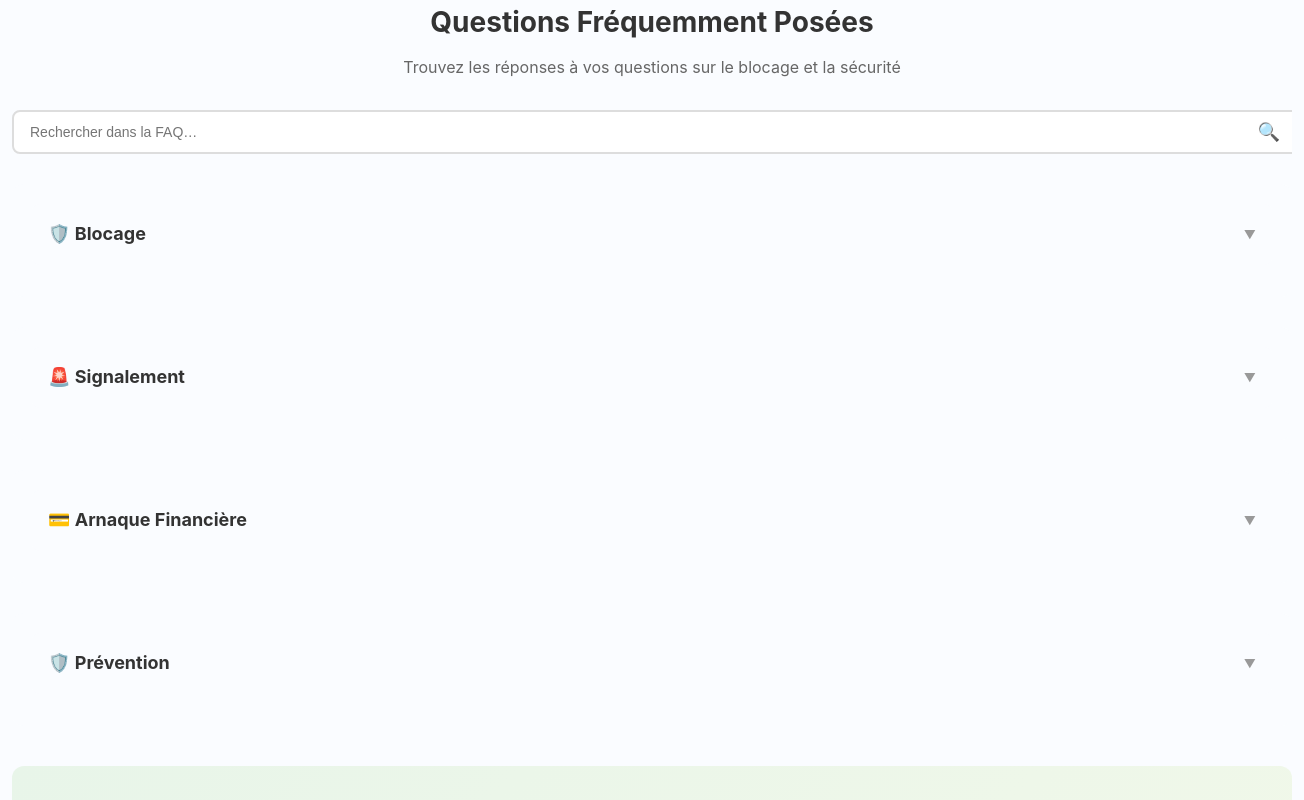
Test: FAQSection Component - Expanded Coverage › Search Filtering › should show no results message with suggestions
Type "xyz123abc" into the field with class "search-input" at [652, 132], box [12,110,1292,154]
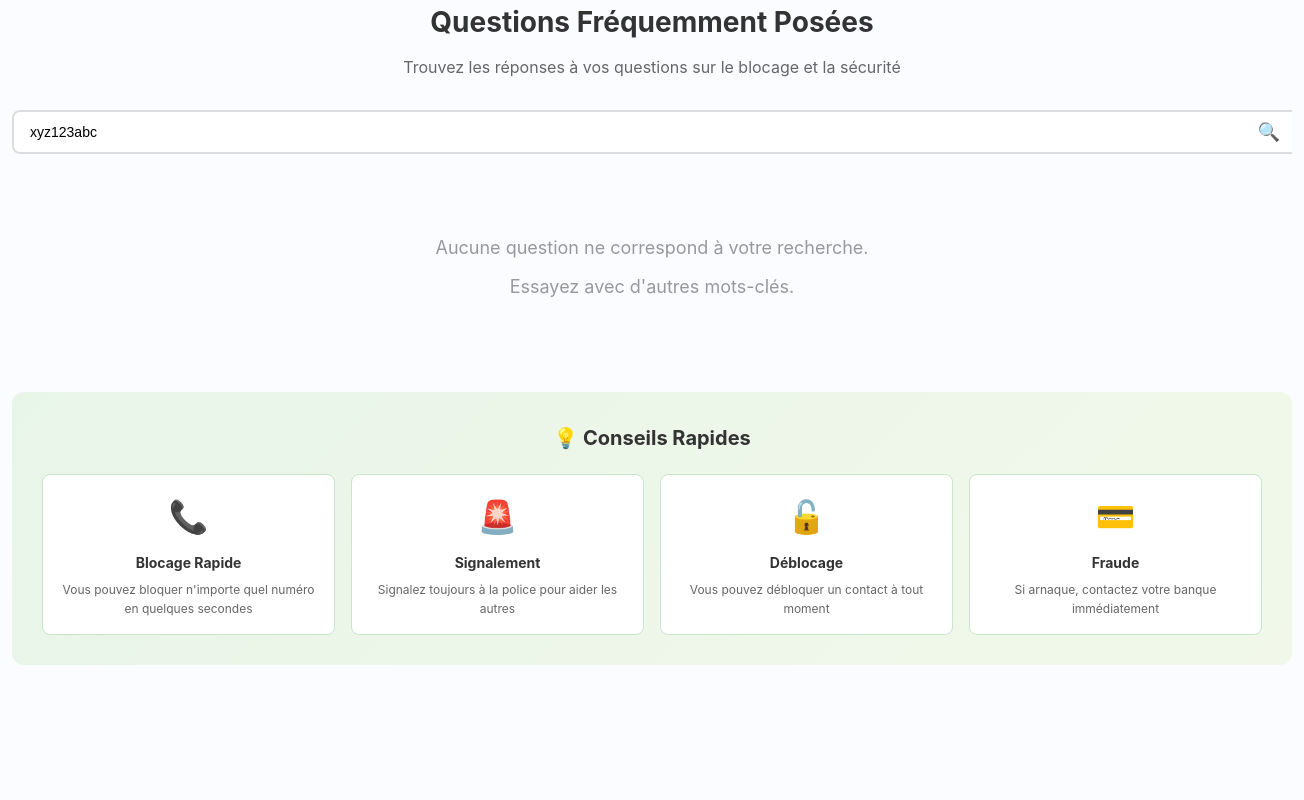
Check: the element with class "no-results" shows "mots-clés", box [510,276,794,297]
